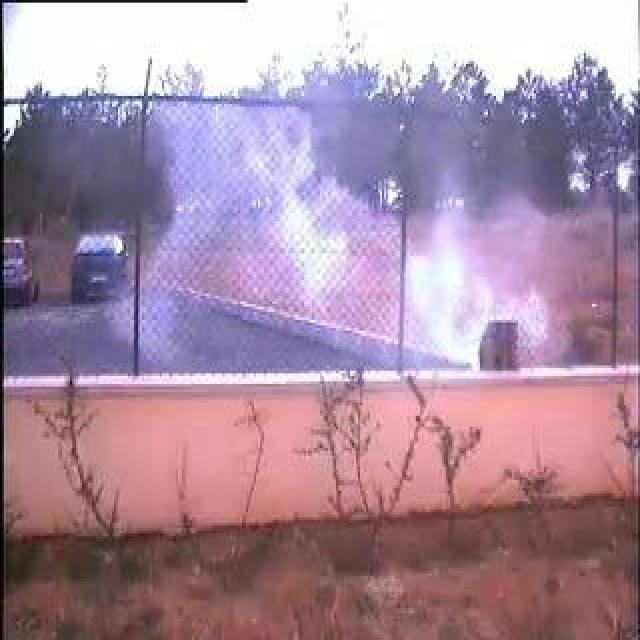Smoke: (205, 107, 481, 370)
